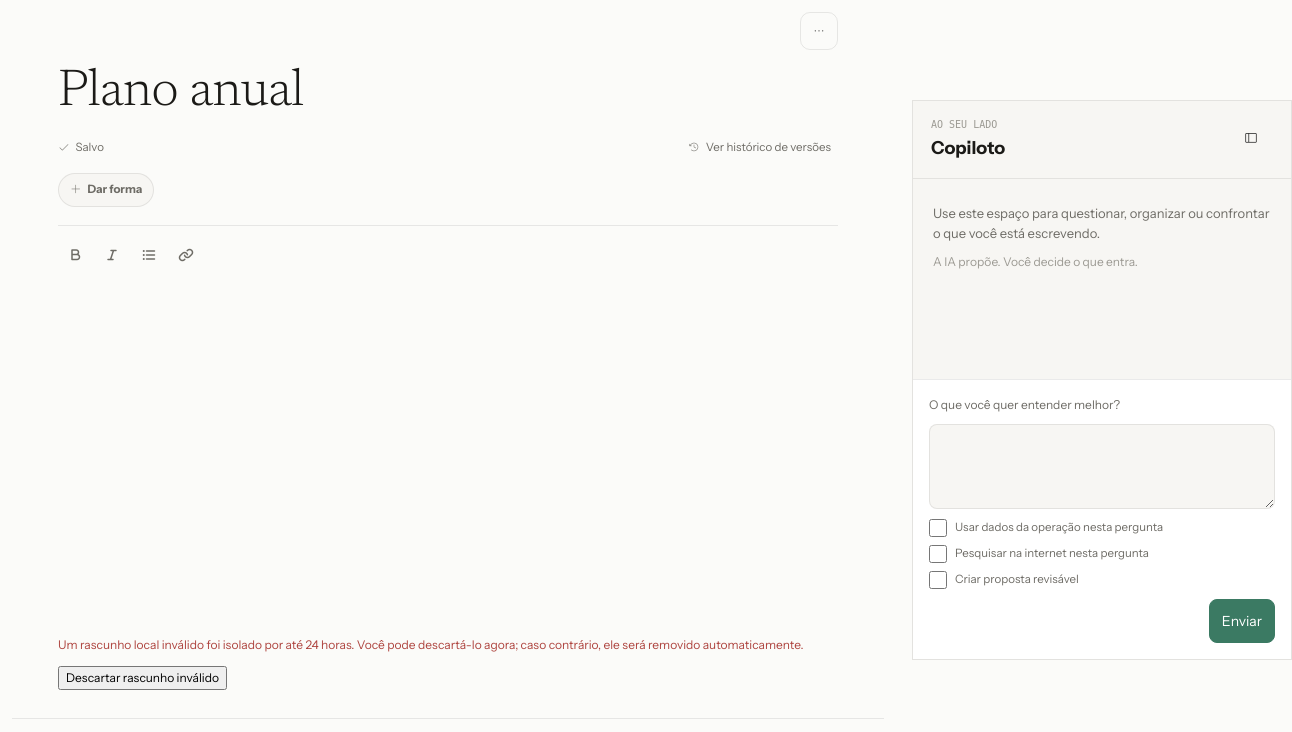
StudioEditor › lets the owner explicitly discard a bounded invalid-draft quarantine
The image size is (1292, 732).
What coordinates should you click on to do the following:
click the button "Descartar rascunho inválido"
I would click on:
 (142, 678)
Its box is [58,666,227,690].
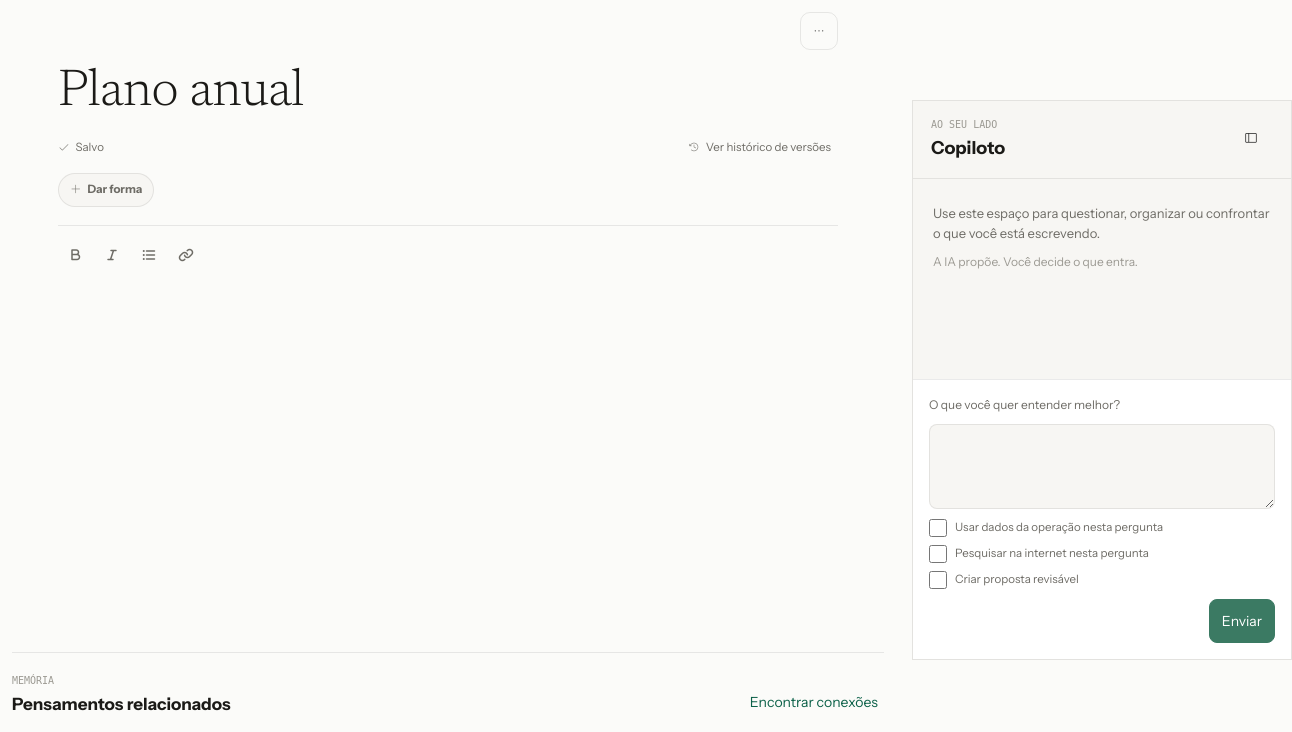
Now the text "rascunho local inválido" is gone
